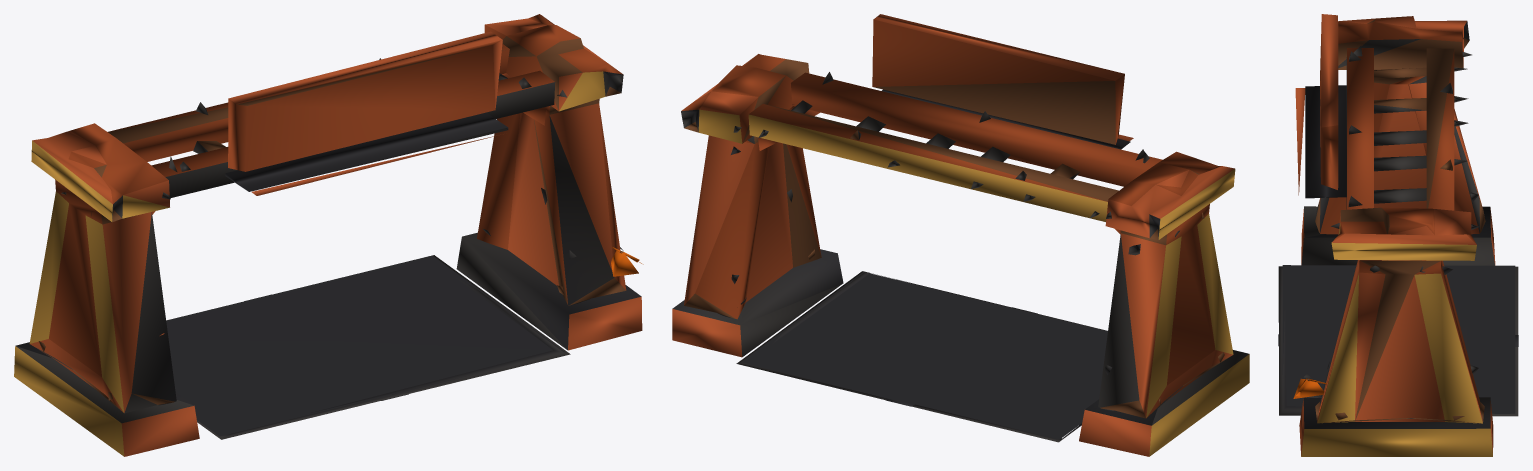
The model's file is poi_weighbridge_gantry_lod2.glb.
The picture shows the model from 3 angles, left to right: view 1: azimuth 30°, elevation 25°; view 2: azimuth 150°, elevation 25°; view 3: azimuth 270°, elevation 25°; orthographic projection. The views are drawn at different scales.
Visible parts, largest first — view 1: WeighbridgeGantry; view 2: WeighbridgeGantry; view 3: WeighbridgeGantry.
Part boxes in pixels (left/top/right/bottom): WeighbridgeGantry: left=14, top=14, right=643, bottom=456; WeighbridgeGantry: left=672, top=14, right=1249, bottom=456; WeighbridgeGantry: left=1278, top=14, right=1518, bottom=456.
Bounding box in the file's own units: 11.94 × 6.93 × 5.46.
